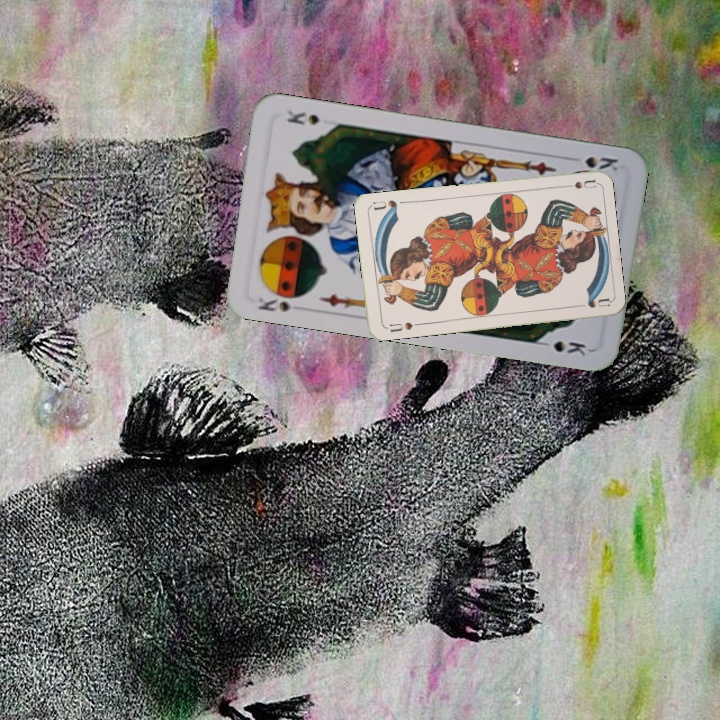SK: (564, 152, 621, 174), (254, 293, 294, 315)
SU: (382, 318, 422, 335), (556, 175, 597, 191)
